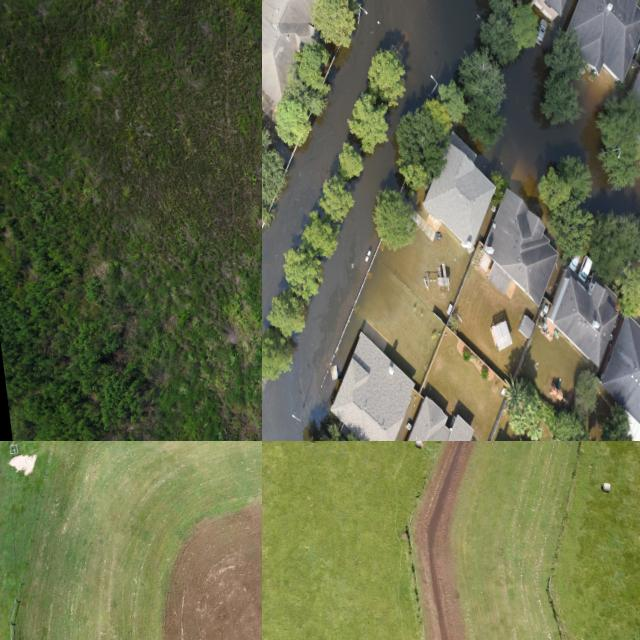fire: (262, 0, 477, 441), (502, 46, 611, 208), (606, 181, 640, 210)
